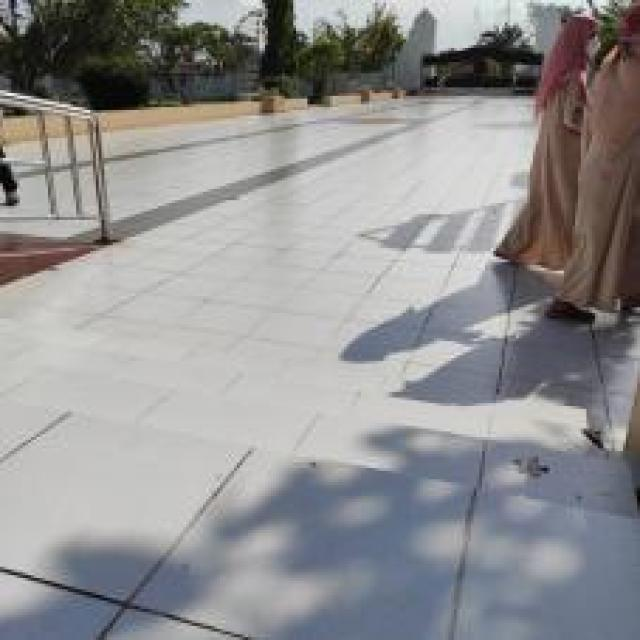downstair: (2, 318, 640, 511)
